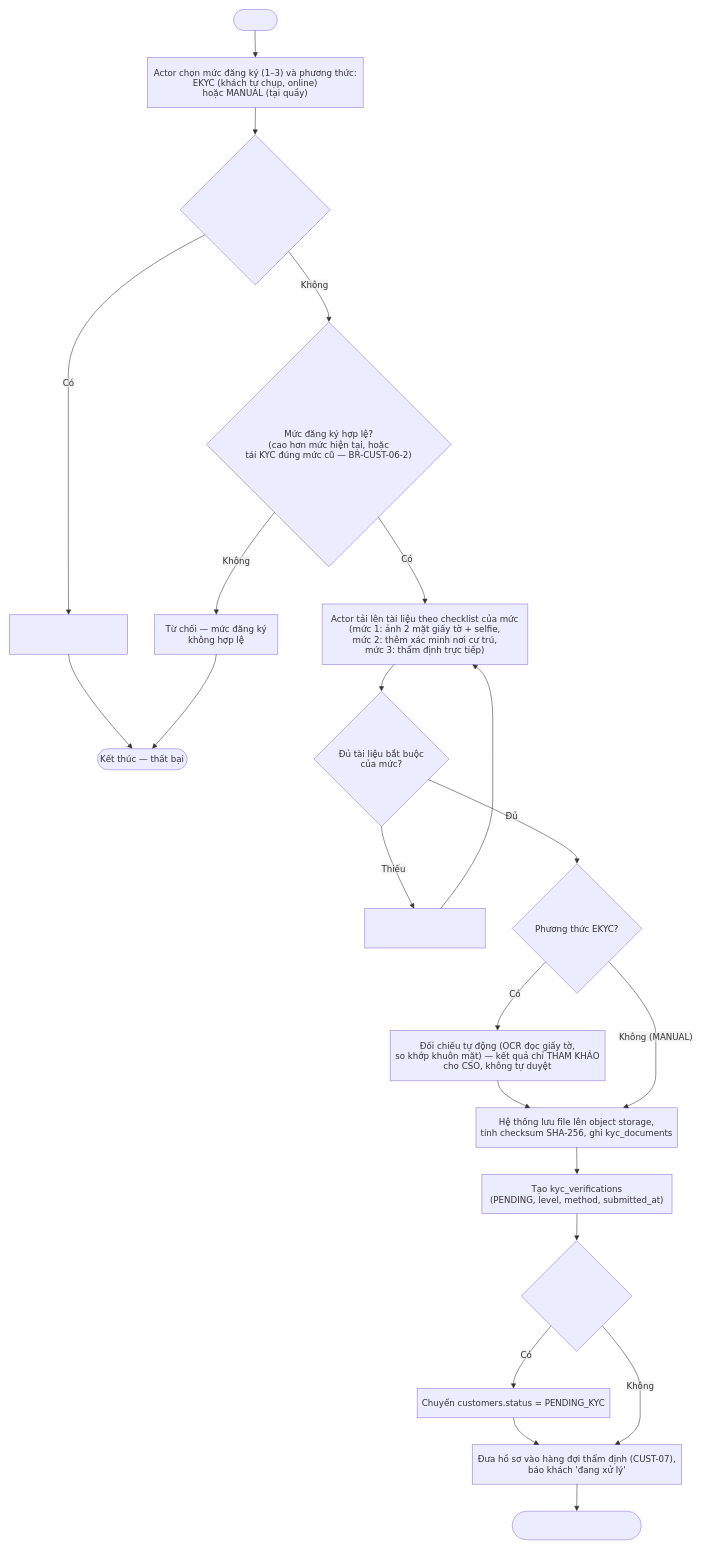
The diagram is 702 pixels wide and 1550 high, and some of its shapes have lost their labels. Each missing label, with the centre of its shape:
"Bắt đầu" belongs at point (255, 20).
"CIF đang có lượt KYC PENDING / IN_REVIEW? (BR-CUST-06-1)" belongs at point (255, 209).
"CIF đang DRAFT? (KYC lần đầu)" belongs at point (576, 1295).
"Kết thúc — lượt KYC PENDING chờ thẩm định" belongs at point (576, 1525).
"Từ chối nộp, trả checklist còn thiếu" belongs at point (424, 928).
"Từ chối tạo lượt mới, trả về lượt hiện có" belongs at point (68, 634).
